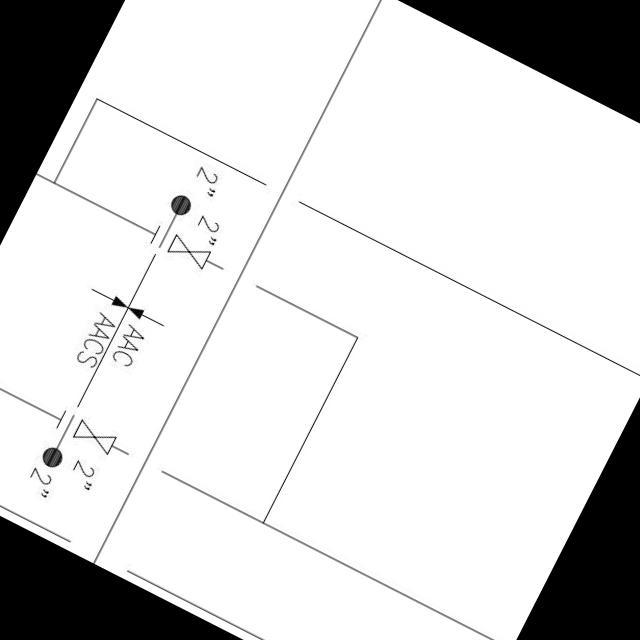GV: (160, 228, 216, 276), (67, 414, 122, 460)
